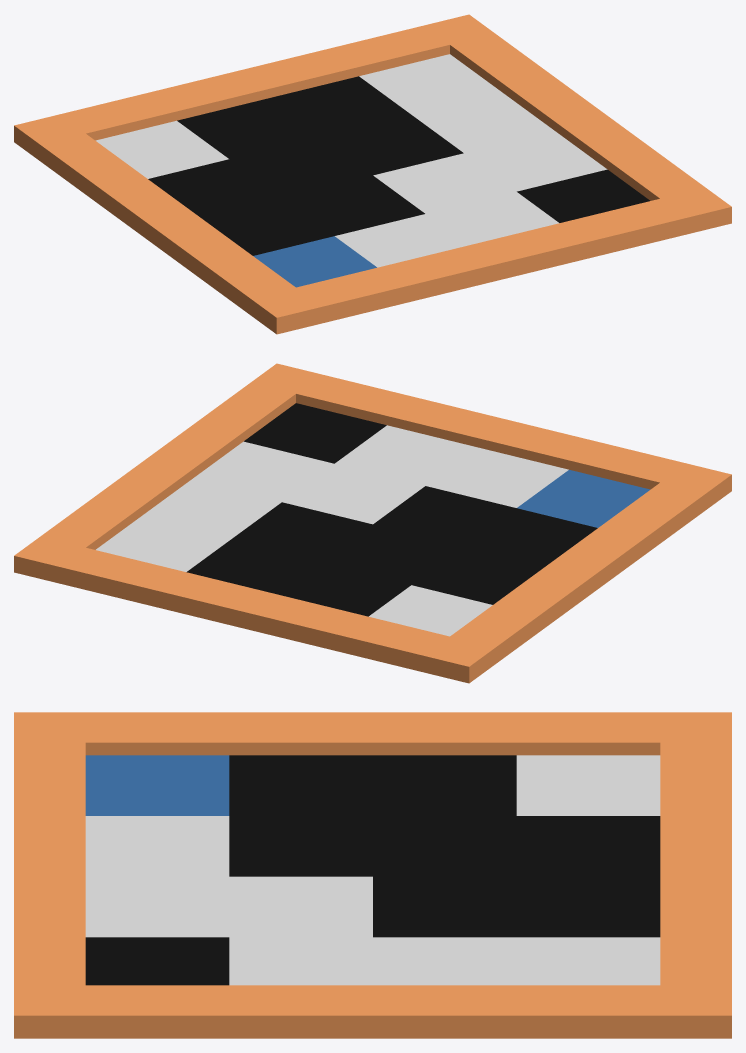
The model's file is fourbyfour419.dae.
The picture shows the model from 3 angles, top to bottom: view 1: azimuth 30°, elevation 25°; view 2: azimuth 150°, elevation 25°; view 3: azimuth 270°, elevation 25°; orthographic projection. The views are drawn at different scales.
Parts seen in each view (by area): view 1: Cube; view 2: Cube; view 3: Cube.
Boxes of the visible parts, x1,y1,x2,y2 form: Cube: (14, 14, 731, 334); Cube: (14, 363, 731, 683); Cube: (14, 712, 731, 1038).
Size of the model in its own units: 5 by 5 by 0.175.
